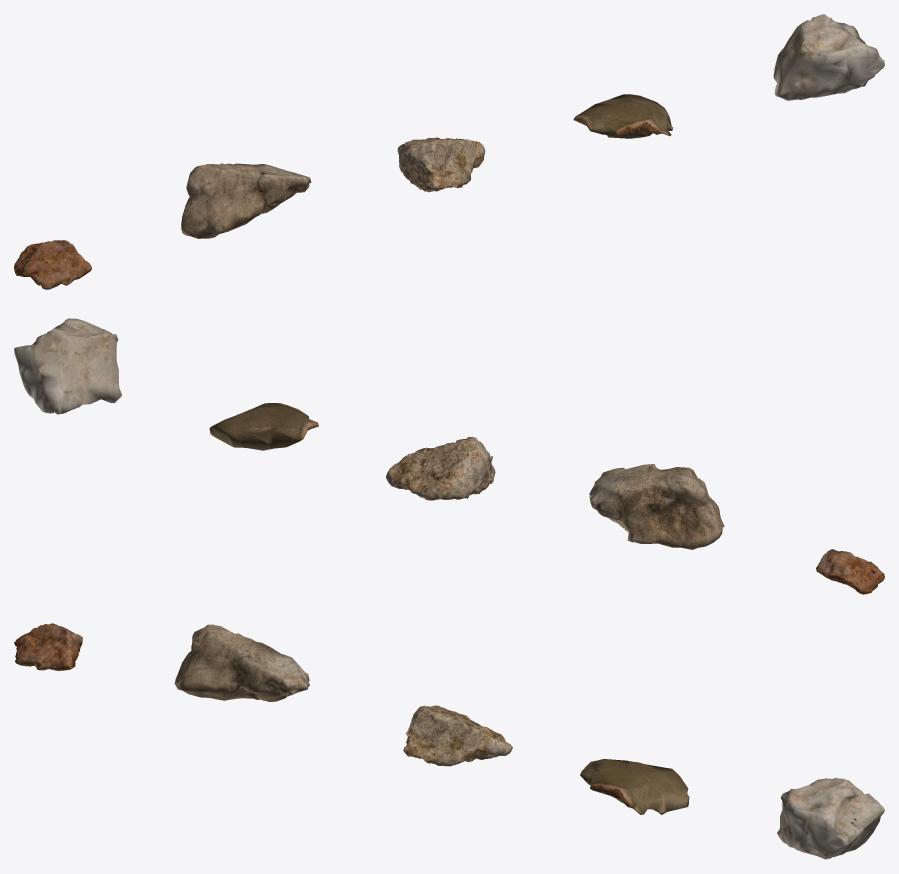
The model's file is stones.glb.
3 views of the same model, one above another, from view 1: azimuth 30°, elevation 25°; view 2: azimuth 150°, elevation 25°; view 3: azimuth 330°, elevation 25° (orthographic).
Parts seen in each view (by area): view 1: namaqualand_stones_01_e, namaqualand_stones_01_b, namaqualand_stones_01_c, namaqualand_stones_01_d, namaqualand_stones_01_a; view 2: namaqualand_stones_01_b, namaqualand_stones_01_e, namaqualand_stones_01_c, namaqualand_stones_01_d, namaqualand_stones_01_a; view 3: namaqualand_stones_01_b, namaqualand_stones_01_e, namaqualand_stones_01_c, namaqualand_stones_01_d, namaqualand_stones_01_a.
Part boxes in pixels (box(x1,y1,x2,y2)): namaqualand_stones_01_e: box(773, 14, 884, 100); namaqualand_stones_01_b: box(181, 163, 311, 238); namaqualand_stones_01_c: box(397, 137, 485, 192); namaqualand_stones_01_d: box(573, 94, 672, 138); namaqualand_stones_01_a: box(14, 240, 91, 289); namaqualand_stones_01_b: box(589, 464, 724, 549); namaqualand_stones_01_e: box(14, 318, 121, 414); namaqualand_stones_01_c: box(386, 437, 495, 500); namaqualand_stones_01_d: box(209, 403, 318, 450); namaqualand_stones_01_a: box(816, 549, 884, 594); namaqualand_stones_01_b: box(174, 624, 309, 701); namaqualand_stones_01_e: box(777, 777, 884, 859); namaqualand_stones_01_c: box(403, 705, 512, 766); namaqualand_stones_01_d: box(580, 759, 689, 814); namaqualand_stones_01_a: box(14, 623, 82, 670).
Bounding box in the file's own units: 1.02 × 0.084 × 0.112.
1 material, 1 textured.
